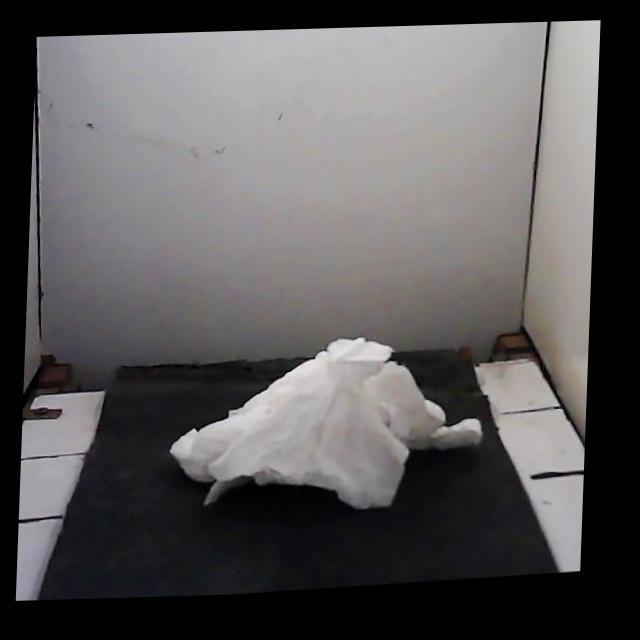papel: (170, 337, 481, 508)
